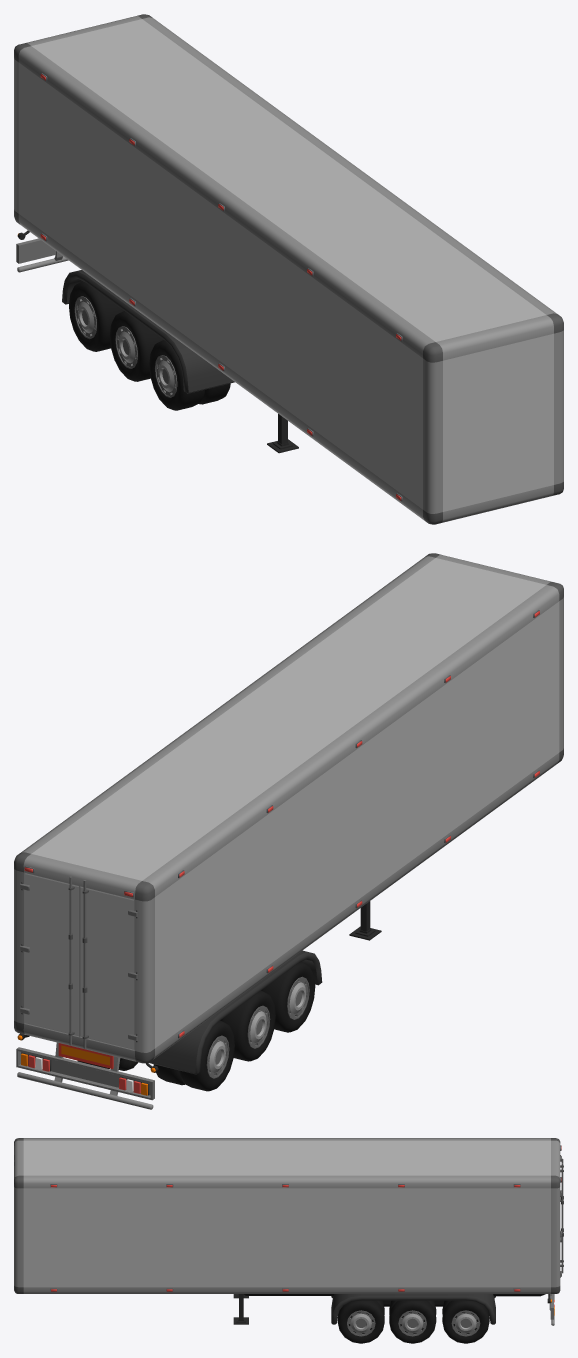
File: SM_Vehicles_Truck_03_V1.fbx
3 views of the same model, one above another, from view 1: azimuth 30°, elevation 25°; view 2: azimuth 150°, elevation 25°; view 3: azimuth 270°, elevation 25° (orthographic). The views are drawn at different scales.
Parts seen in each view (by area): view 1: SM_Vehicles_Truck_03_V1, SM_Vehicles_Truck_03_RR1, SM_Vehicles_Truck_03_RR3, SM_Vehicles_Truck_03_RR2; view 2: SM_Vehicles_Truck_03_V1, SM_Vehicles_Truck_03_RR2, SM_Vehicles_Truck_03_RR3, SM_Vehicles_Truck_03_RR1; view 3: SM_Vehicles_Truck_03_V1, SM_Vehicles_Truck_03_RL2, SM_Vehicles_Truck_03_RL3, SM_Vehicles_Truck_03_RL1.
Part boxes in pixels (bbox=[...]): SM_Vehicles_Truck_03_V1: bbox=[14, 14, 563, 524]; SM_Vehicles_Truck_03_RR1: bbox=[149, 340, 230, 410]; SM_Vehicles_Truck_03_RR3: bbox=[69, 281, 123, 351]; SM_Vehicles_Truck_03_RR2: bbox=[109, 311, 163, 381]; SM_Vehicles_Truck_03_V1: bbox=[14, 553, 563, 1109]; SM_Vehicles_Truck_03_RR2: bbox=[220, 991, 275, 1061]; SM_Vehicles_Truck_03_RR3: bbox=[153, 1020, 234, 1091]; SM_Vehicles_Truck_03_RR1: bbox=[261, 962, 315, 1032]; SM_Vehicles_Truck_03_V1: bbox=[14, 1138, 563, 1325]; SM_Vehicles_Truck_03_RL2: bbox=[389, 1300, 436, 1343]; SM_Vehicles_Truck_03_RL3: bbox=[442, 1300, 489, 1343]; SM_Vehicles_Truck_03_RL1: bbox=[337, 1300, 384, 1343].
Bounding box in the file's own units: 2.17 × 3.77 × 11.35.
